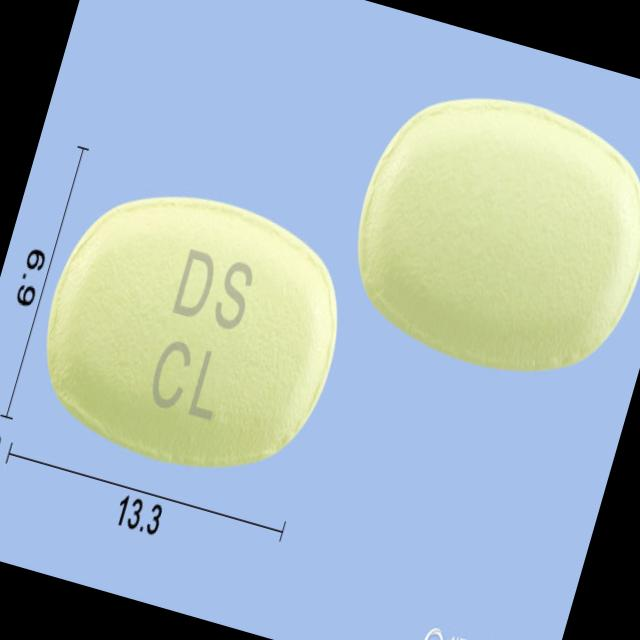Heracin: (18, 160, 368, 499)
